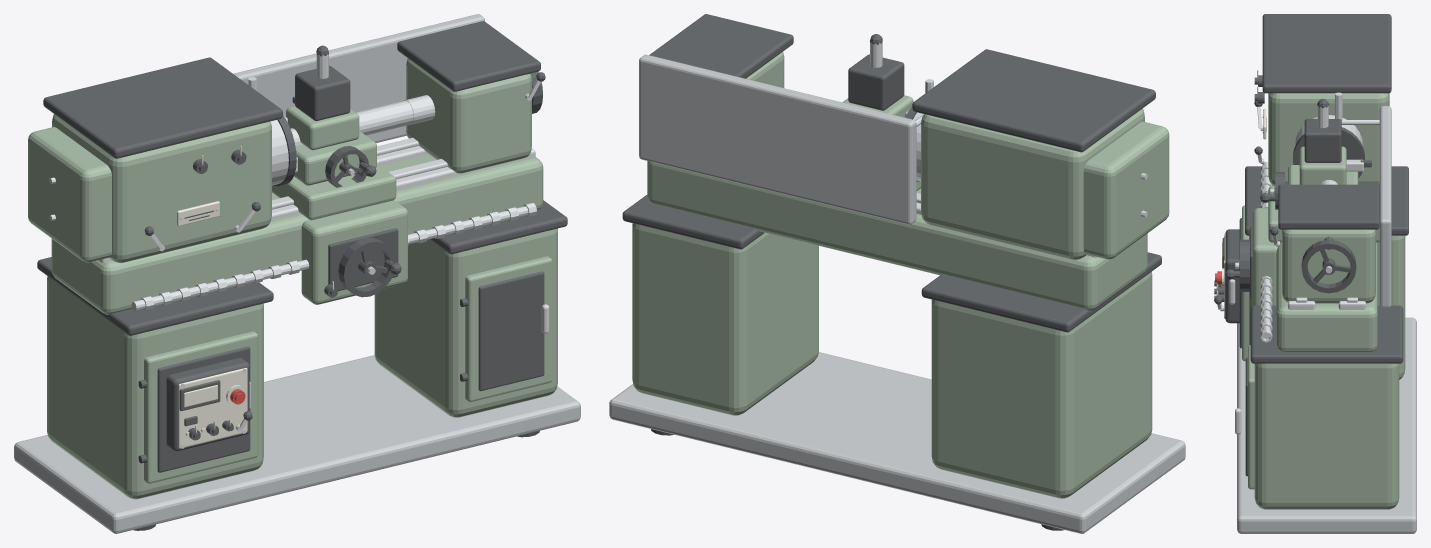
Rendered from FactoryLathe.glb.
The picture shows the model from 3 angles, left to right: view 1: azimuth 30°, elevation 25°; view 2: azimuth 150°, elevation 25°; view 3: azimuth 270°, elevation 25°; orthographic projection. The views are drawn at different scales.
Visible parts, largest first — view 1: machine-shop-and-factory-hall-engine-lathe, carriage-travelenamel, carriage-travelcharcoal, chuck-spinsteel; view 2: machine-shop-and-factory-hall-engine-lathe, carriage-travelcharcoal; view 3: machine-shop-and-factory-hall-engine-lathe, carriage-travelenamel, carriage-travelcharcoal, handwheel-spincharcoal, chuck-spincharcoal, carriage-travelsteel, chuck-spinsteel.
Boxes of the visible parts, box(x1,y1,x2,y2) form: machine-shop-and-factory-hall-engine-lathe: box(14, 14, 580, 533); carriage-travelenamel: box(272, 106, 407, 304); carriage-travelcharcoal: box(292, 45, 401, 297); chuck-spinsteel: box(270, 100, 413, 185); machine-shop-and-factory-hall-engine-lathe: box(609, 14, 1185, 533); carriage-travelcharcoal: box(848, 34, 904, 110); machine-shop-and-factory-hall-engine-lathe: box(1214, 14, 1416, 533); carriage-travelenamel: box(1252, 146, 1379, 305); carriage-travelcharcoal: box(1225, 99, 1371, 297); handwheel-spincharcoal: box(1301, 236, 1356, 293); chuck-spincharcoal: box(1293, 127, 1364, 178); carriage-travelsteel: box(1235, 106, 1363, 268); chuck-spinsteel: box(1294, 115, 1363, 184).
Bounding box in the file's own units: 2.82 × 2.25 × 1.17.
